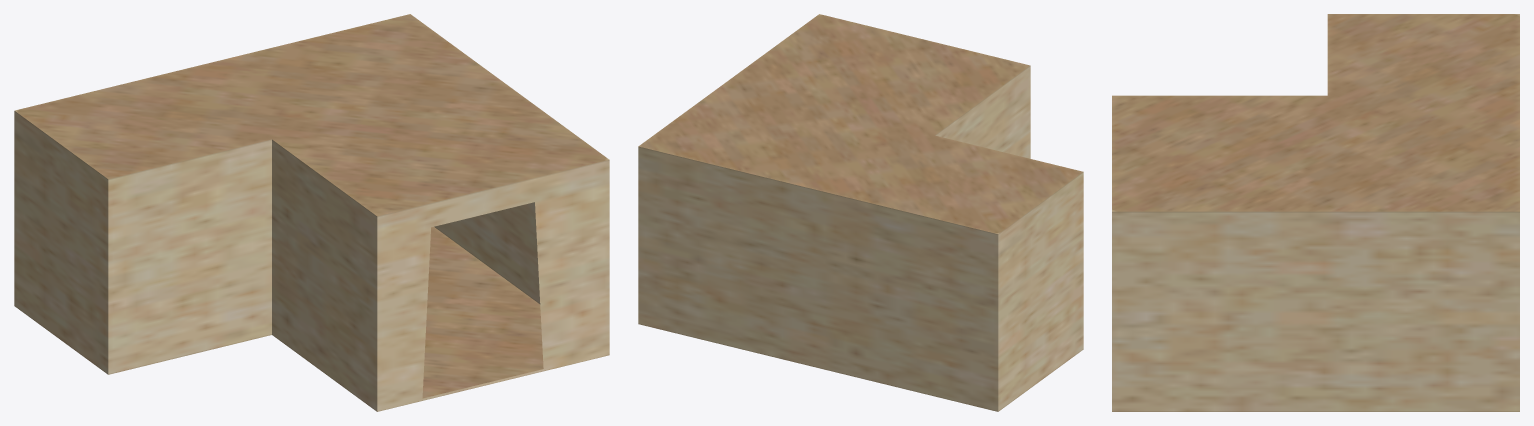
The model's file is thm_tato_imprv_building_s05_r1_foyer_mesh_l1.fbx.
3 renders of one model, left to right at view 1: azimuth 30°, elevation 25°; view 2: azimuth 150°, elevation 25°; view 3: azimuth 270°, elevation 25°, orthographic. The views are drawn at different scales.
Parts seen in each view (by area): view 1: mesh_node; view 2: mesh_node; view 3: mesh_node.
Part boxes in pixels (<box>): mesh_node: <box>14,14,609,411</box>; mesh_node: <box>638,14,1083,411</box>; mesh_node: <box>1112,14,1519,411</box>.
Size of the model in its own units: 7.76 by 3.66 by 6.76.
